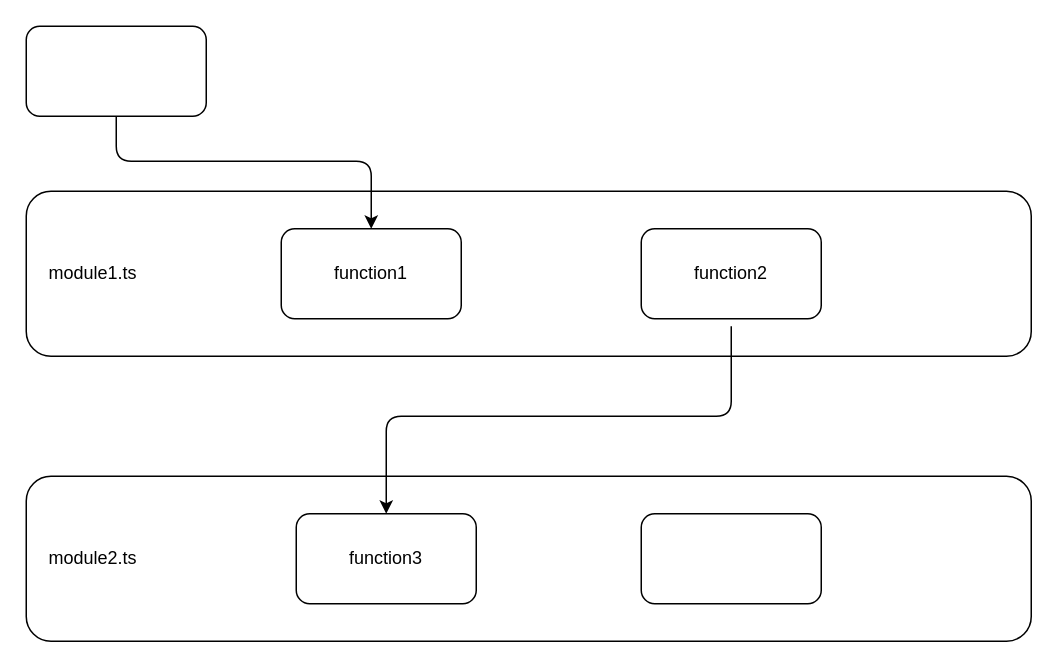
Some shapes in this 1058 by 668 pixel diagram are drawn without their labels. The centre of each missing label's shape, as x and y in pixels:
"entry.ts" belongs at point 115,70.
"function4" belongs at point 730,558.
